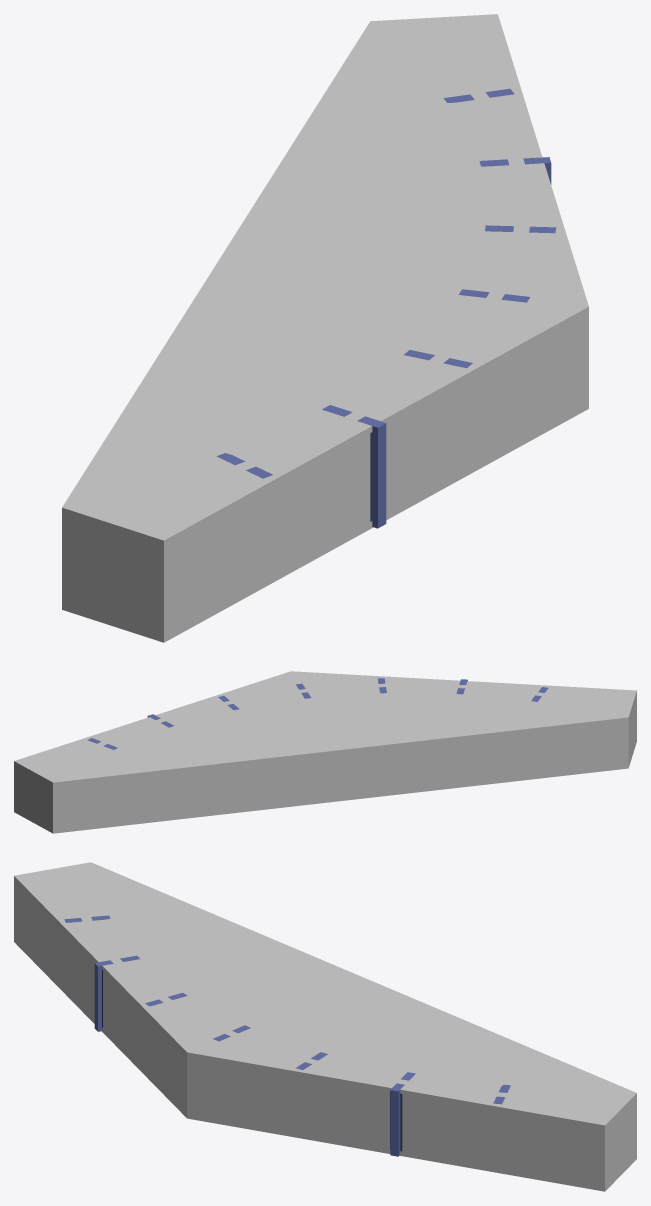
File: SM_Railroad_Corner.fbx
3 renders of one model, top to bottom at view 1: azimuth 30°, elevation 25°; view 2: azimuth 150°, elevation 25°; view 3: azimuth 270°, elevation 25°, orthographic. The views are drawn at different scales.
Visible parts, largest first — view 1: SM_Railroad_Corner_ConvexHulls, SM_Railroad_Corner; view 2: SM_Railroad_Corner_ConvexHulls, SM_Railroad_Corner; view 3: SM_Railroad_Corner_ConvexHulls, SM_Railroad_Corner.
Boxes of the visible parts, x1,y1,x2,y2 form: SM_Railroad_Corner_ConvexHulls: (62,14,588,642); SM_Railroad_Corner: (216,88,556,528); SM_Railroad_Corner_ConvexHulls: (14,671,636,833); SM_Railroad_Corner: (87,678,548,749); SM_Railroad_Corner_ConvexHulls: (14,862,636,1191); SM_Railroad_Corner: (64,915,510,1156).
Bounding box in the file's own units: 1178 × 1178 × 138.
